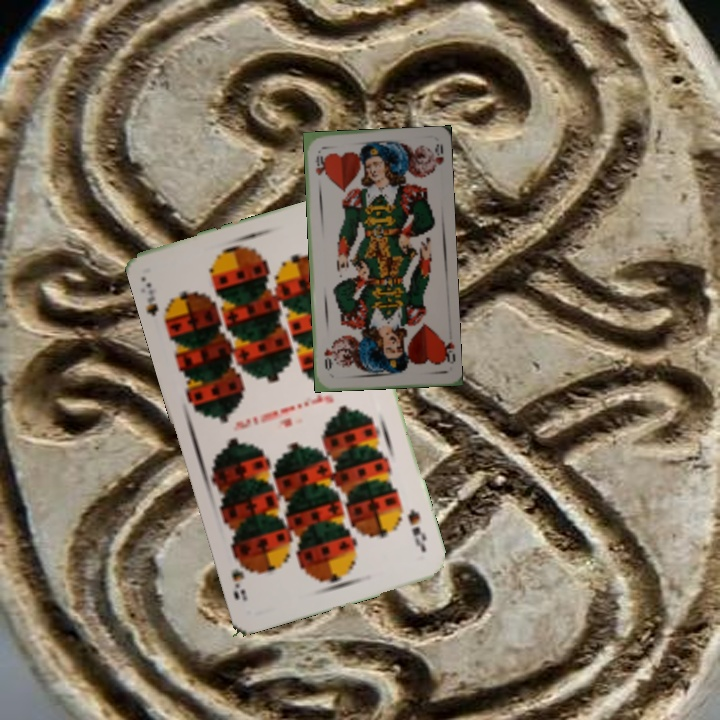HO: (436, 332, 457, 366), (311, 152, 327, 178)
S9: (141, 278, 175, 329), (403, 504, 429, 555)
